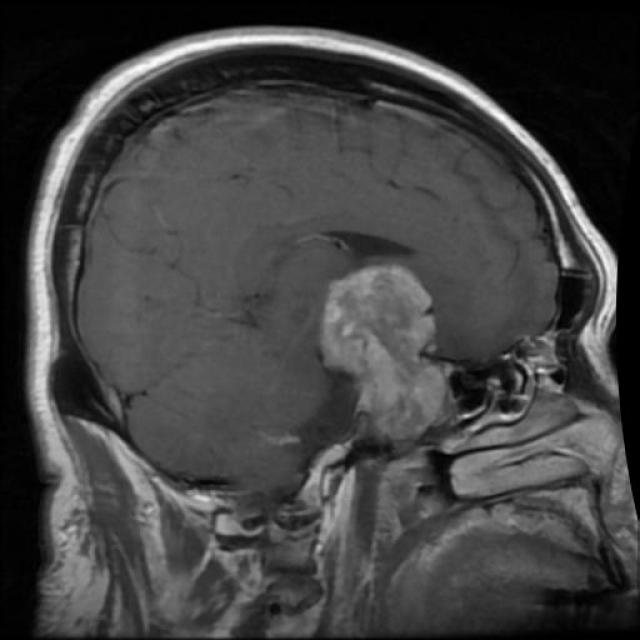Brain-Tumor: (308, 246, 464, 458)
